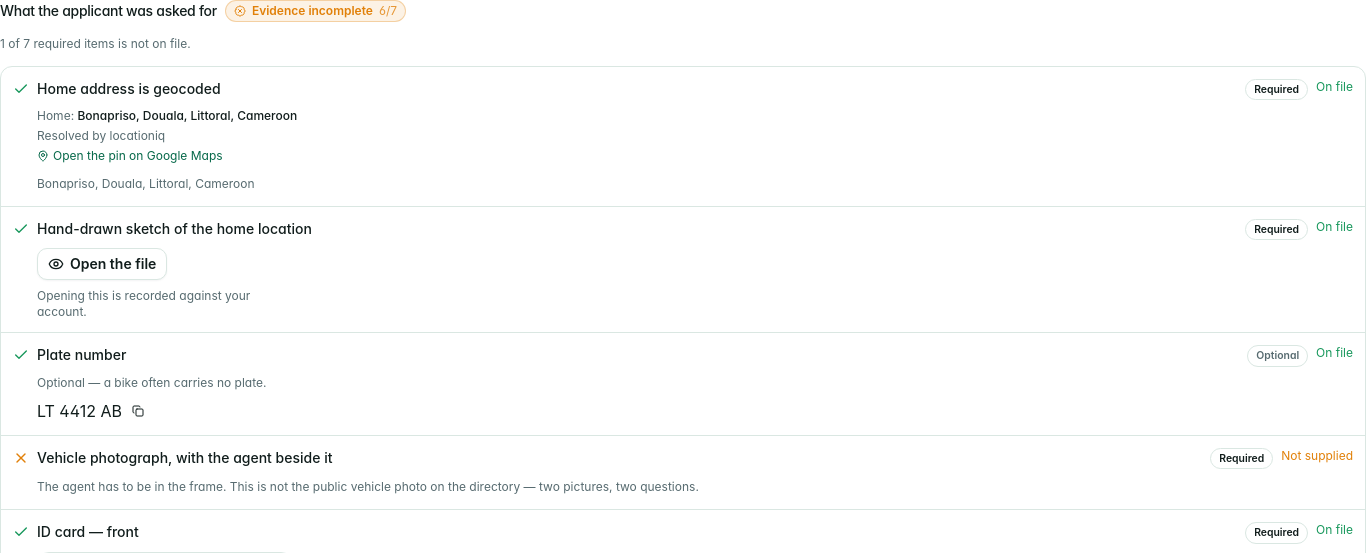
opening a home-address sketch › says a PDF sketch cannot be drawn, rather than rendering nothing
This screenshot has width=1366, height=553.
Expected: the text "Hand-drawn sketch of the home location" is shown, [37,220,312,237]
Click the button "Open the file" at {"x": 102, "y": 264}, box [37,248,167,280]
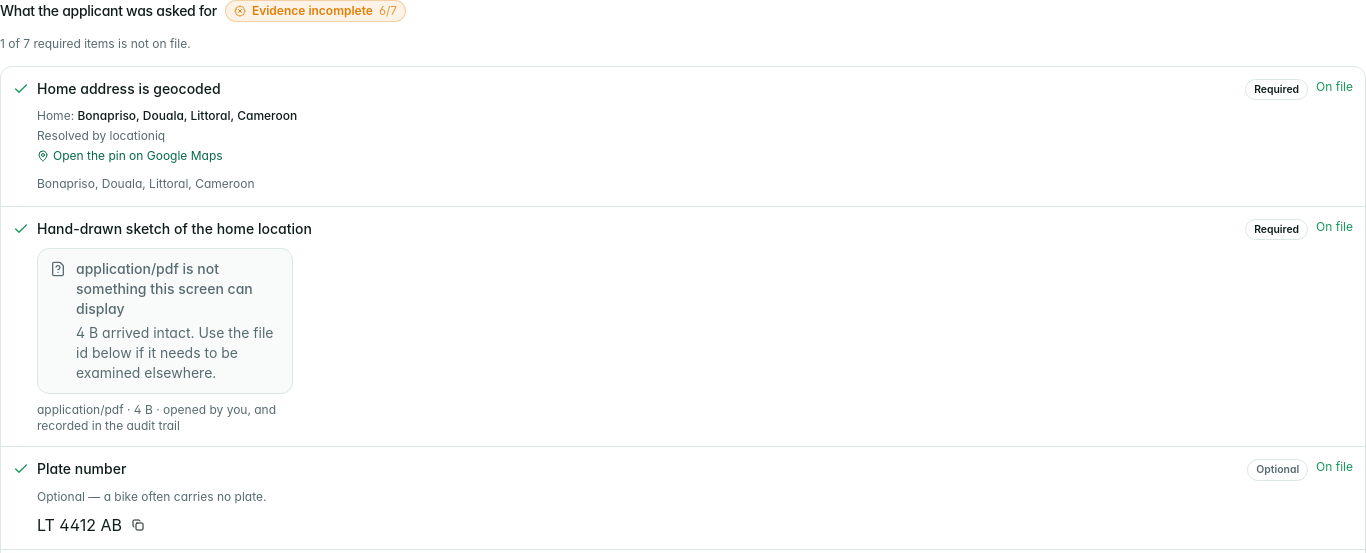
Expected: the text "Hand-drawn sketch of the home location" is shown, [37,220,312,237]
Now the text "application/pdf is not something this screen can display" is shown, box [76,259,280,319]
